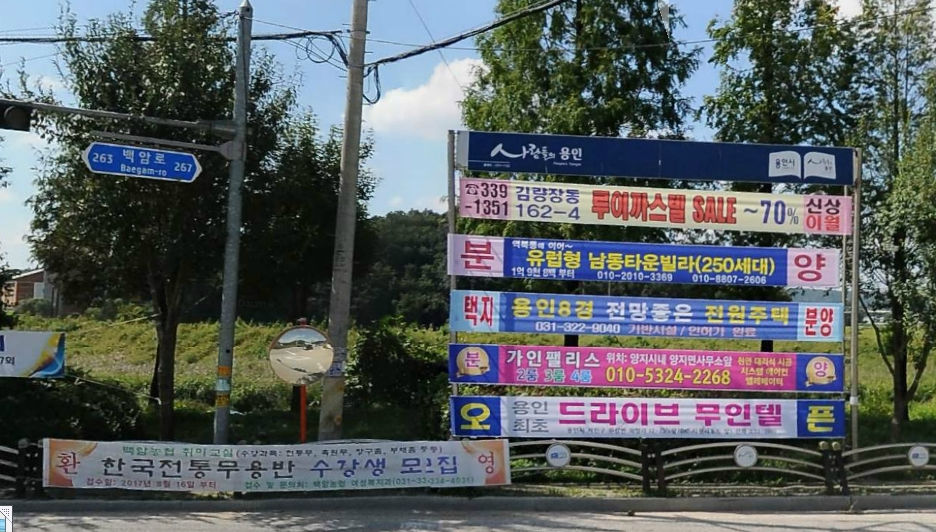banner: (37, 424, 521, 499), (431, 230, 867, 299), (431, 282, 864, 348), (440, 386, 866, 446), (452, 177, 864, 239), (442, 338, 860, 398)
